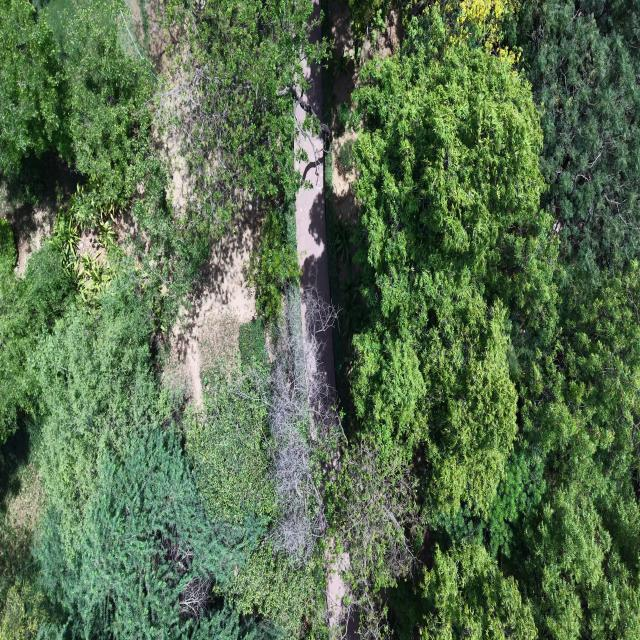DRY_AREA: (164, 216, 258, 404), (327, 0, 401, 125), (295, 134, 330, 326), (295, 134, 330, 302)
VEGETATION_TREE: (0, 0, 639, 639), (0, 0, 324, 638), (351, 3, 639, 638), (351, 29, 555, 591), (352, 44, 549, 516), (186, 290, 339, 636), (161, 0, 325, 320), (35, 429, 277, 638), (165, 0, 323, 229), (0, 0, 160, 223), (518, 2, 639, 278), (186, 325, 281, 530), (0, 219, 72, 442), (401, 542, 536, 639), (0, 0, 63, 179), (0, 578, 49, 639)
